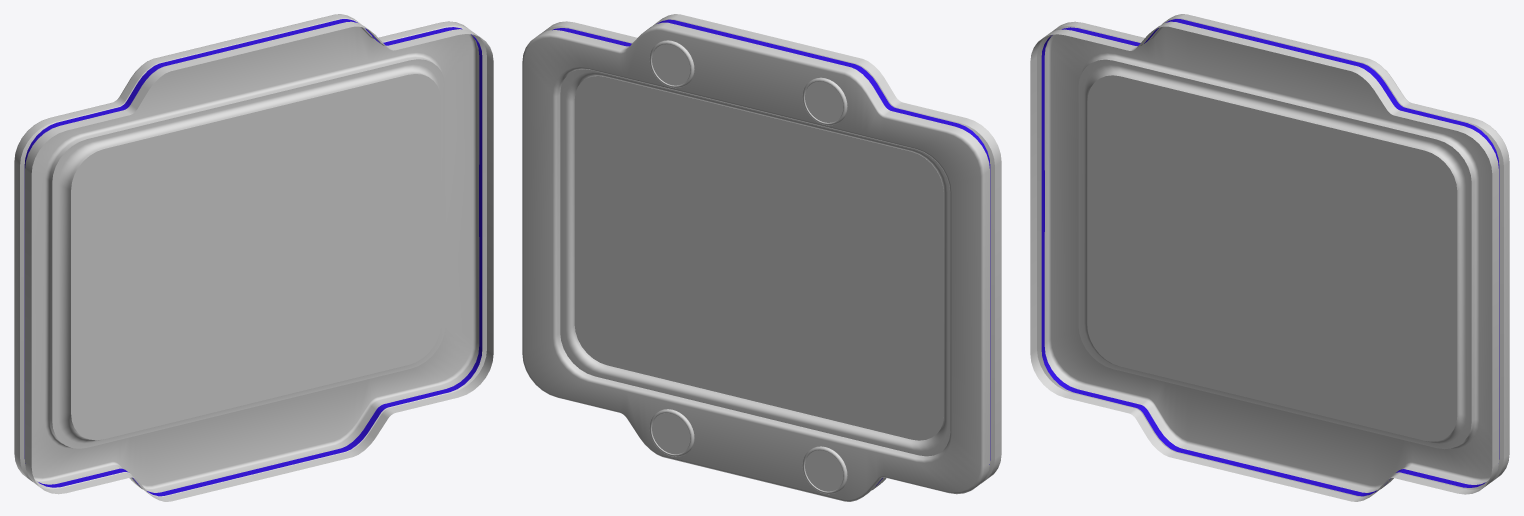
File: FBX_ComputerPanel2.fbx
3 views of the same model, side by side, from view 1: azimuth 30°, elevation 25°; view 2: azimuth 150°, elevation 25°; view 3: azimuth 330°, elevation 25° (orthographic).
Parts seen in each view (by area): view 1: Cube; view 2: Cube, Ceiling_InnerFace.002; view 3: Cube.
Boxes of the visible parts, left/top/right/bottom form: Cube: left=14, top=14, right=493, bottom=501; Cube: left=522, top=14, right=1001, bottom=501; Ceiling_InnerFace.002: left=649, top=40, right=847, bottom=494; Cube: left=1030, top=14, right=1509, bottom=501.
Bounding box in the file's own units: 50 × 44.5 × 4.31.
